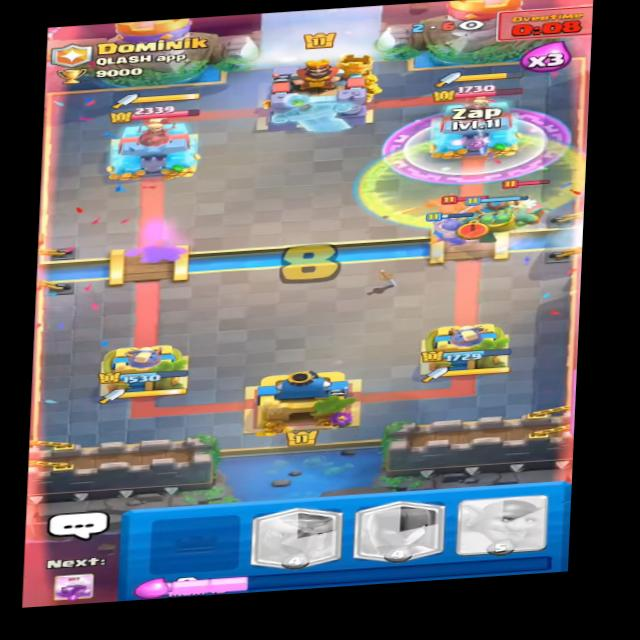pekka: (412, 185, 492, 228)
royal-ghost: (499, 177, 557, 228)
